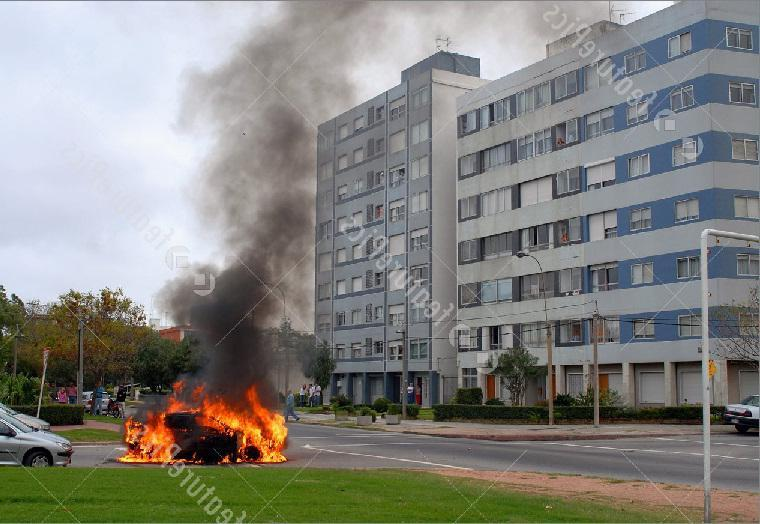Fire: (110, 379, 307, 472)
